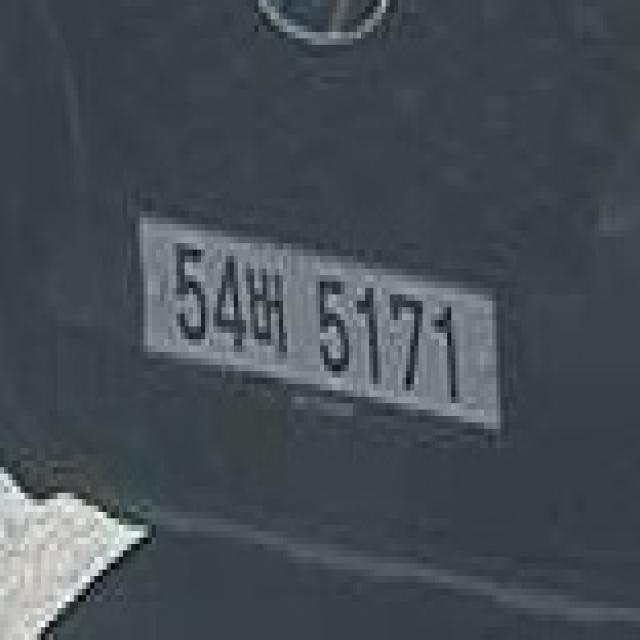1: (426, 294, 472, 416), (348, 269, 386, 397)
4: (213, 243, 246, 352)
5: (316, 262, 353, 390), (164, 237, 205, 346)
7: (382, 262, 426, 390)
beo: (246, 256, 287, 358)
license_plate: (123, 205, 509, 461)
